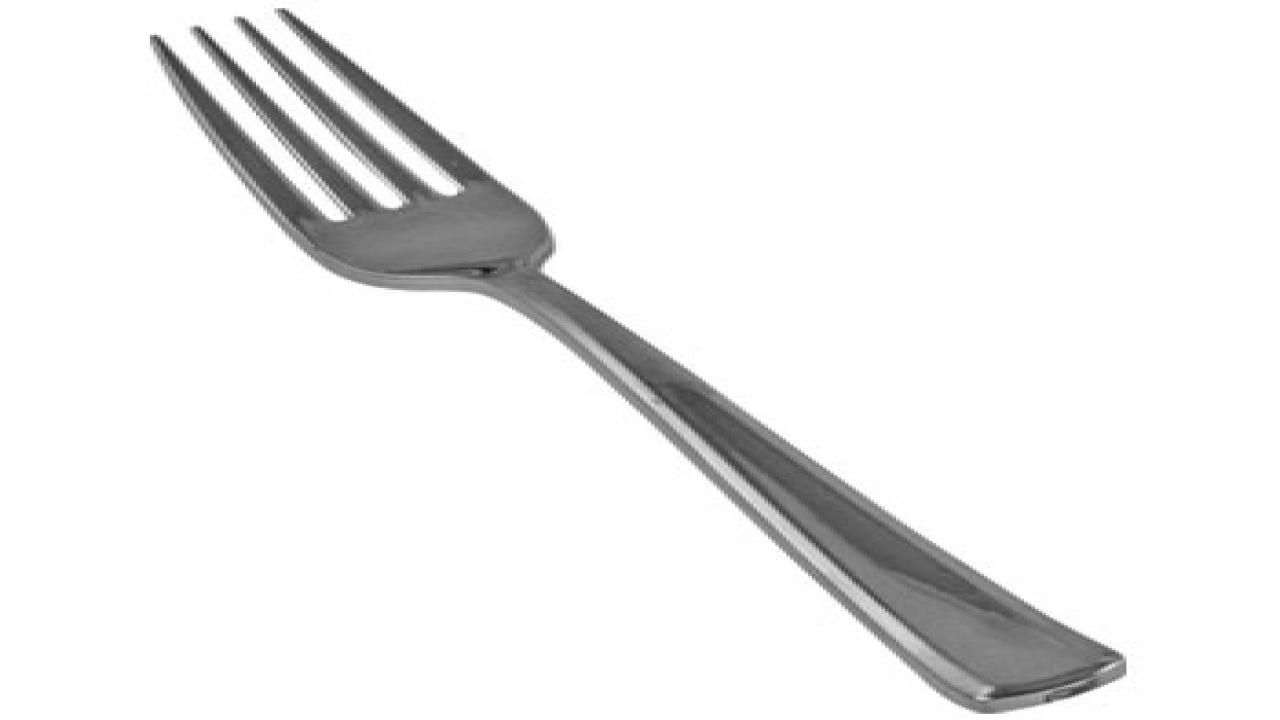fork: (146, 6, 1126, 712)
